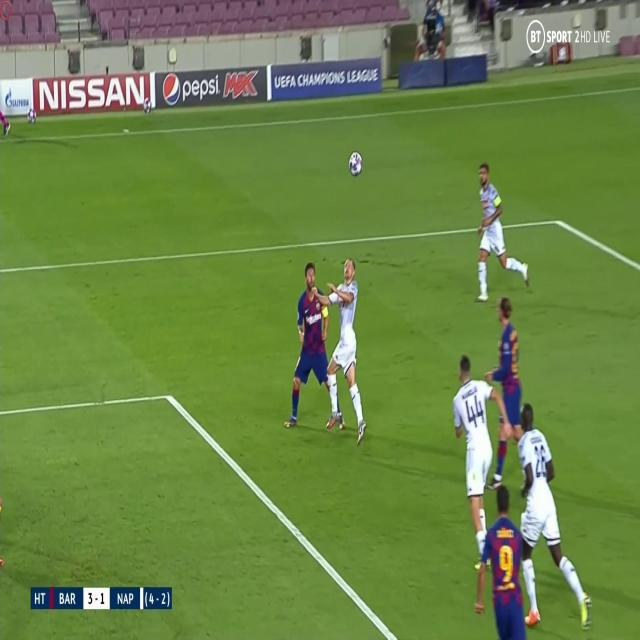ball: (346, 146, 365, 178)
player: (505, 400, 587, 626), (446, 350, 501, 574), (318, 243, 372, 442), (466, 159, 532, 304), (281, 262, 336, 434), (478, 292, 529, 471), (472, 486, 529, 638)
